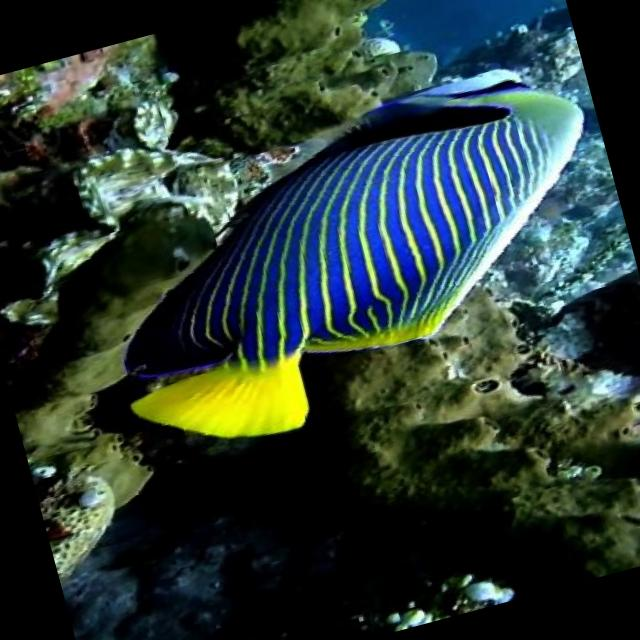AngelFish: (72, 48, 640, 468)
